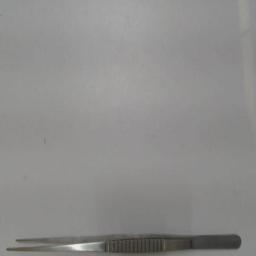DeBakey Dissector: (3, 224, 249, 254)
